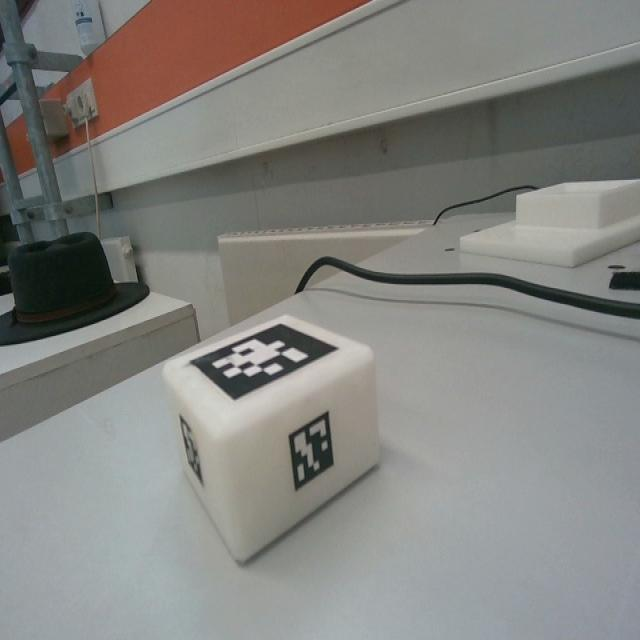Cube: (162, 310, 378, 566)
